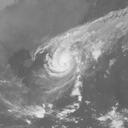cyclone: (44, 42, 77, 78)
